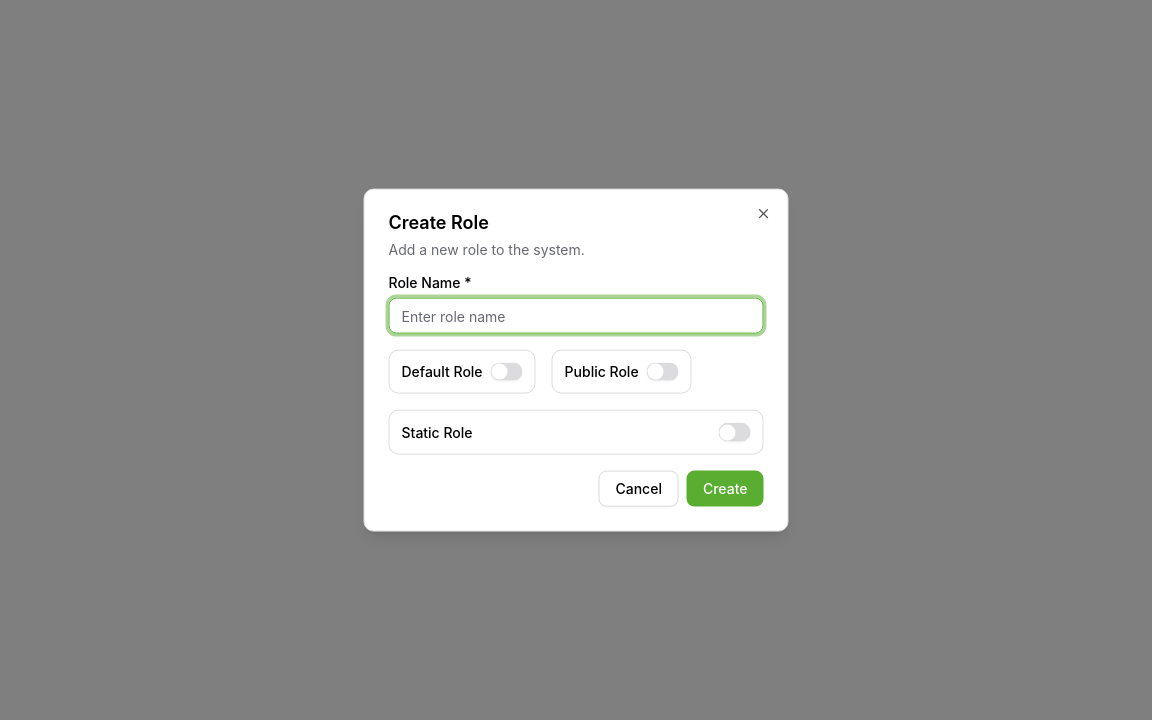
Test case: RoleForm › should validate required fields
The width and height of the screenshot is (1152, 720).
Try to submit without entering name
Click the button with test id "btn-save-role" at [725, 488], box x1=687 y1=470 x2=764 y2=506
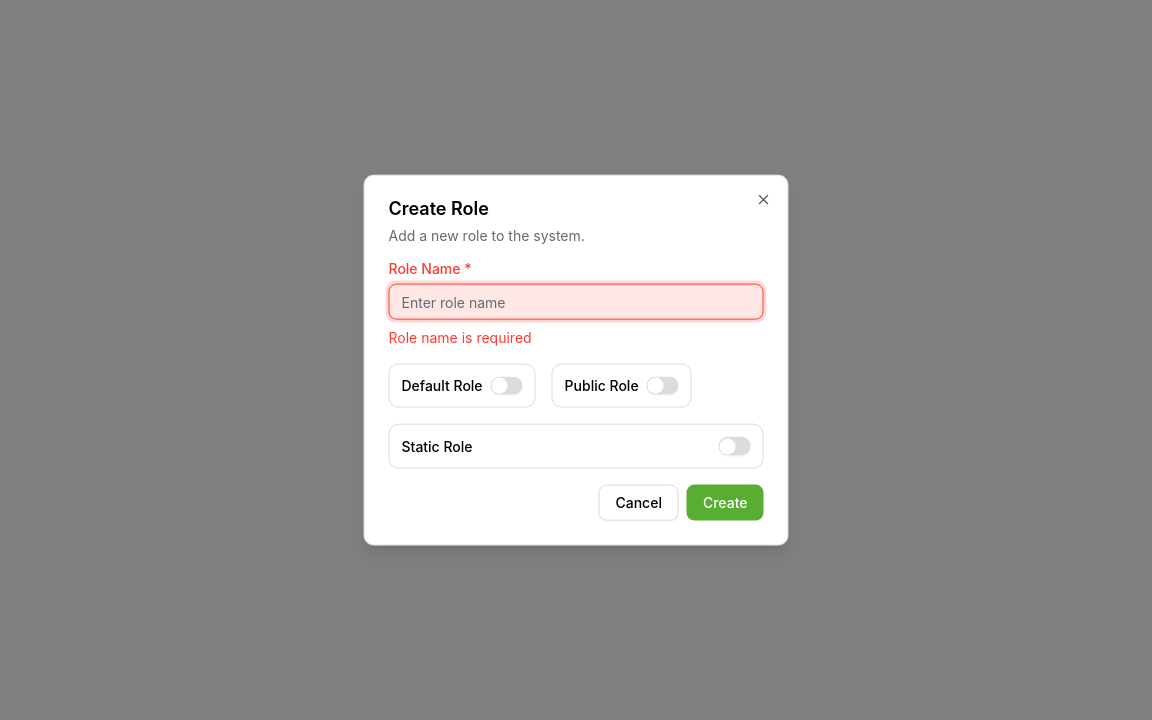
Check: the text "Role name is required" is shown, box x1=388 y1=329 x2=532 y2=346
